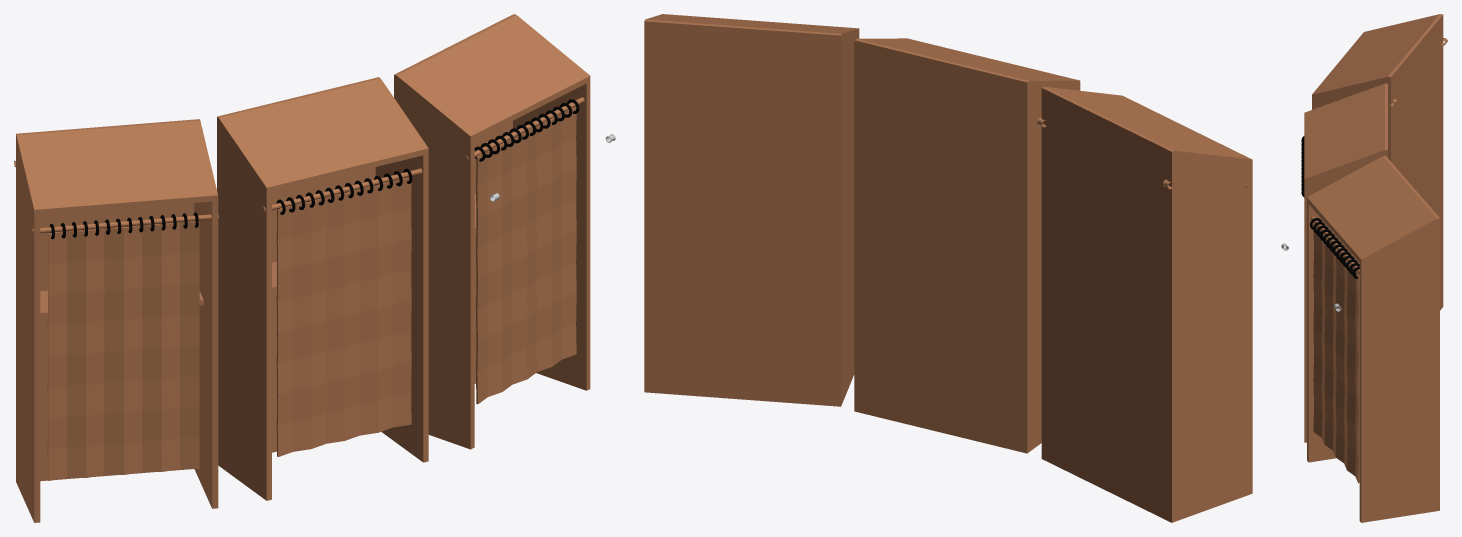
The model's file is Voting+Booth-edit.fbx.
The picture shows the model from 3 angles, left to right: view 1: azimuth 30°, elevation 25°; view 2: azimuth 150°, elevation 25°; view 3: azimuth 270°, elevation 25°; orthographic projection. The views are drawn at different scales.
Visible parts, largest first — view 1: node_id15, node_id13, node_id25, node_id5, node_id23, node_id31, node_id29, node_id21, node_id11, node_id7, node_id17; view 2: node_id5, node_id25, node_id15; view 3: node_id25, node_id5, node_id31, node_id15, node_id29, node_id21, node_id27.
Boxes of the visible parts, bbox=[...] form: node_id15: bbox=[217, 77, 428, 500]; node_id13: bbox=[47, 221, 199, 480]; node_id25: bbox=[394, 14, 590, 449]; node_id5: bbox=[16, 119, 218, 522]; node_id23: bbox=[276, 177, 411, 456]; node_id31: bbox=[476, 107, 576, 404]; node_id29: bbox=[474, 99, 579, 161]; node_id21: bbox=[276, 168, 412, 214]; node_id11: bbox=[49, 212, 198, 239]; node_id7: bbox=[32, 214, 218, 233]; node_id17: bbox=[262, 168, 421, 212]; node_id5: bbox=[1041, 86, 1252, 522]; node_id25: bbox=[644, 14, 859, 406]; node_id15: bbox=[854, 38, 1080, 453]; node_id25: bbox=[1307, 155, 1439, 522]; node_id5: bbox=[1312, 14, 1443, 310]; node_id31: bbox=[1313, 224, 1359, 483]; node_id15: bbox=[1304, 83, 1387, 442]; node_id29: bbox=[1310, 218, 1359, 278]; node_id21: bbox=[1301, 136, 1304, 197]; node_id27: bbox=[1310, 216, 1367, 281].
Bounding box in the file's own units: 0.5131 × 0.302 × 0.1556.
15 materials, 14 textured.
